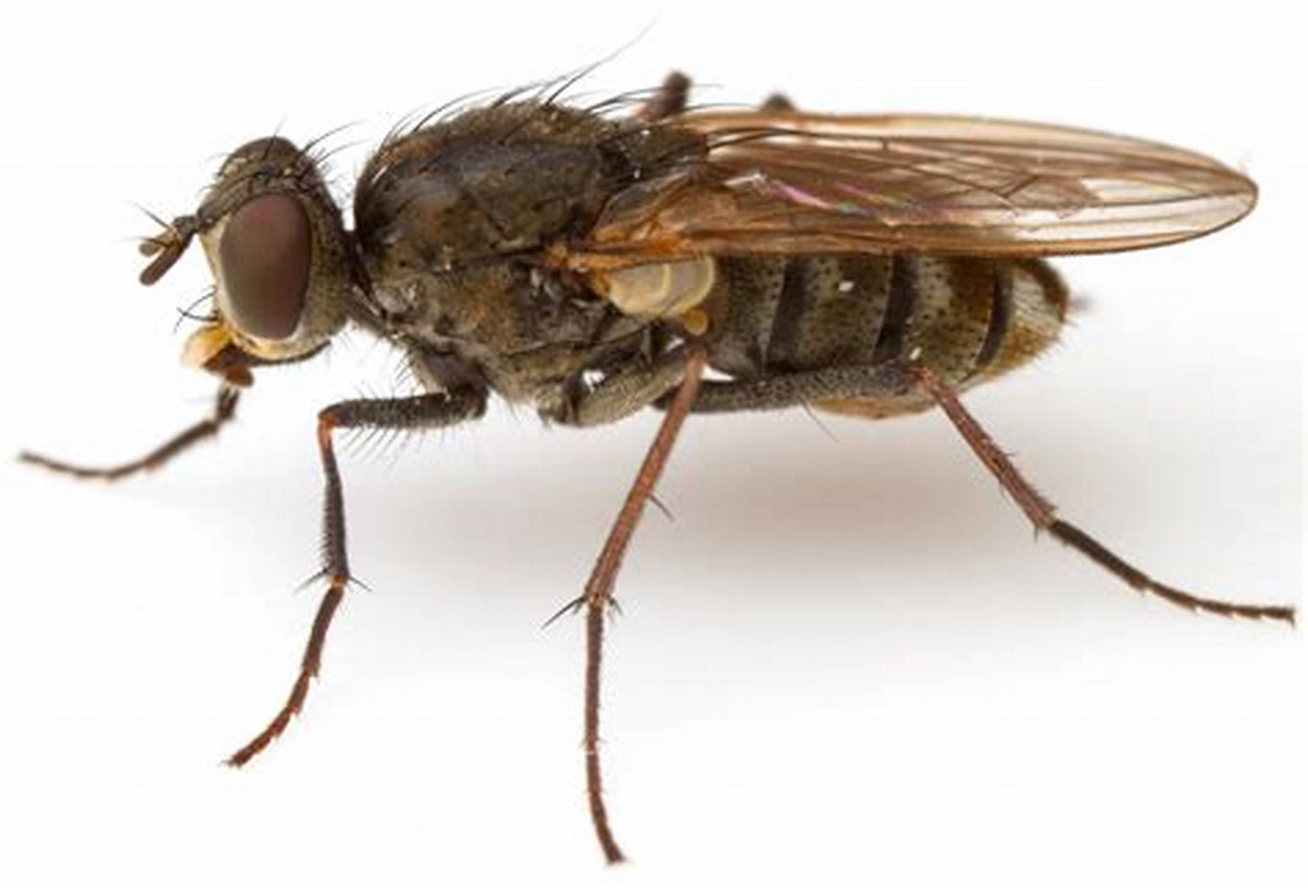Ephydridae: (6, 61, 1308, 872)
